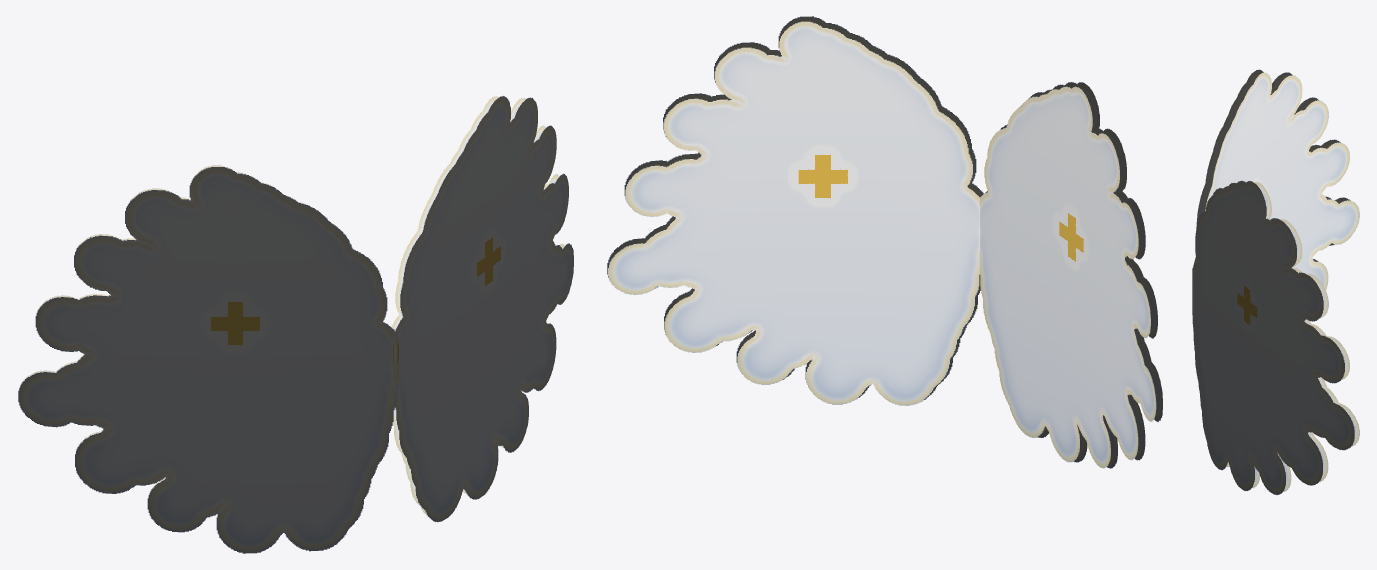
File: cloud_plus_wings.glb
3 views of the same model, side by side, from view 1: azimuth 30°, elevation 25°; view 2: azimuth 150°, elevation 25°; view 3: azimuth 270°, elevation 25° (orthographic). The views are drawn at different scales.
Parts seen in each view (by area): view 1: Cloud+ Wings Wing Right, Cloud+ Wings Wing Left; view 2: Cloud+ Wings Wing Left, Cloud+ Wings Wing Right; view 3: Cloud+ Wings Wing Left, Cloud+ Wings Wing Right.
Boxes of the visible parts, left/top/right/bottom form: Cloud+ Wings Wing Right: left=18, top=165, right=398, bottom=553; Cloud+ Wings Wing Left: left=391, top=96, right=573, bottom=522; Cloud+ Wings Wing Left: left=607, top=16, right=983, bottom=405; Cloud+ Wings Wing Right: left=980, top=82, right=1162, bottom=468; Cloud+ Wings Wing Left: left=1192, top=180, right=1359, bottom=494; Cloud+ Wings Wing Right: left=1192, top=69, right=1359, bottom=326.
Bounding box in the file's own units: 1.88 × 1.26 × 0.6078.
Materials: 2 (2 with a texture image).
